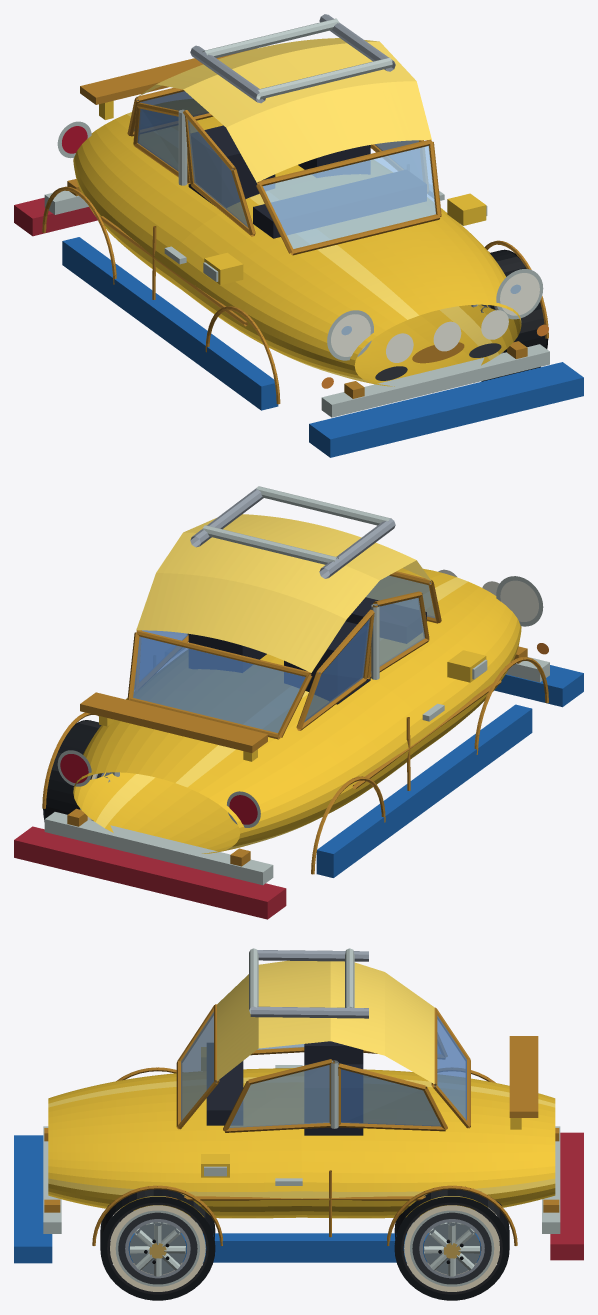
File: yellow_beetle_complete_rally.obj
The picture shows the model from 3 angles, top to bottom: view 1: azimuth 30°, elevation 25°; view 2: azimuth 150°, elevation 25°; view 3: azimuth 270°, elevation 25°; orthographic projection. The views are drawn at different scales.
Parts seen in each view (by area): view 1: SCULPTED_MAIN_BODY, BUBBLE_ROOF, WINDSHIELD, RALLY_SPLITTER, SIDE_SKIRT, DASHBOARD, CHROME_BUMPERS, SEATS, GLASS_SEALS, ROUND_HEADLAMPS, DRIVER_WINDOW, RACK_CROSSBAR (+16 smaller); view 2: SCULPTED_MAIN_BODY, BUBBLE_ROOF, REAR_WINDOW, REAR_BUMPER, SIDE_SKIRT, CHROME_BUMPERS, SEATS, SPOILER, REAR_SIDE_WINDOW, GLASS_SEALS, GLASS_TRIM, RACK_CROSSBAR (+13 smaller); view 3: SCULPTED_MAIN_BODY, BUBBLE_ROOF, WHEEL_SIDE, SIDE_SKIRT, DRIVER_WINDOW, RALLY_SPLITTER, SEATS, REAR_SIDE_WINDOW, GLASS_TRIM, REAR_BUMPER, WHEEL_DISC, ALLOY_SPOKES (+14 smaller).
Boxes of the visible parts, box(x1,y1,x2,y2) form: SCULPTED_MAIN_BODY: box(73, 99, 521, 386); BUBBLE_ROOF: box(138, 38, 431, 182); WINDSHIELD: box(263, 146, 435, 248); RALLY_SPLITTER: box(309, 362, 583, 457); SIDE_SKIRT: box(62, 237, 278, 410); DASHBOARD: box(253, 170, 426, 238); CHROME_BUMPERS: box(44, 190, 549, 417); SEATS: box(188, 125, 370, 207); GLASS_SEALS: box(127, 87, 441, 255); ROUND_HEADLAMPS: box(327, 269, 543, 360); DRIVER_WINDOW: box(187, 119, 422, 227); RACK_CROSSBAR: box(202, 18, 392, 99); SCULPTED_MAIN_BODY: box(73, 568, 521, 853); BUBBLE_ROOF: box(136, 514, 431, 672); REAR_WINDOW: box(133, 636, 305, 732); REAR_BUMPER: box(14, 826, 286, 919); SIDE_SKIRT: box(80, 704, 532, 877); CHROME_BUMPERS: box(44, 657, 549, 885); SEATS: box(188, 621, 370, 704); SPOILER: box(80, 692, 267, 752); REAR_SIDE_WINDOW: box(140, 619, 369, 722); GLASS_SEALS: box(127, 571, 441, 739); GLASS_TRIM: box(135, 591, 429, 730); RACK_CROSSBAR: box(202, 486, 391, 564); SCULPTED_MAIN_BODY: box(48, 1068, 555, 1218); BUBBLE_ROOF: box(217, 960, 434, 1083); WHEEL_SIDE: box(100, 1196, 509, 1300); SIDE_SKIRT: box(128, 1233, 480, 1262); DRIVER_WINDOW: box(229, 1044, 332, 1127); RALLY_SPLITTER: box(14, 1135, 52, 1263); SEATS: box(304, 1041, 363, 1135); REAR_SIDE_WINDOW: box(338, 1048, 441, 1126); GLASS_TRIM: box(223, 1035, 447, 1132); REAR_BUMPER: box(550, 1132, 583, 1260); WHEEL_DISC: box(129, 1222, 480, 1274); ALLOY_SPOKES: box(130, 1222, 479, 1276).
Bounding box in the file's own units: 1.85 × 1.81 × 3.56.
